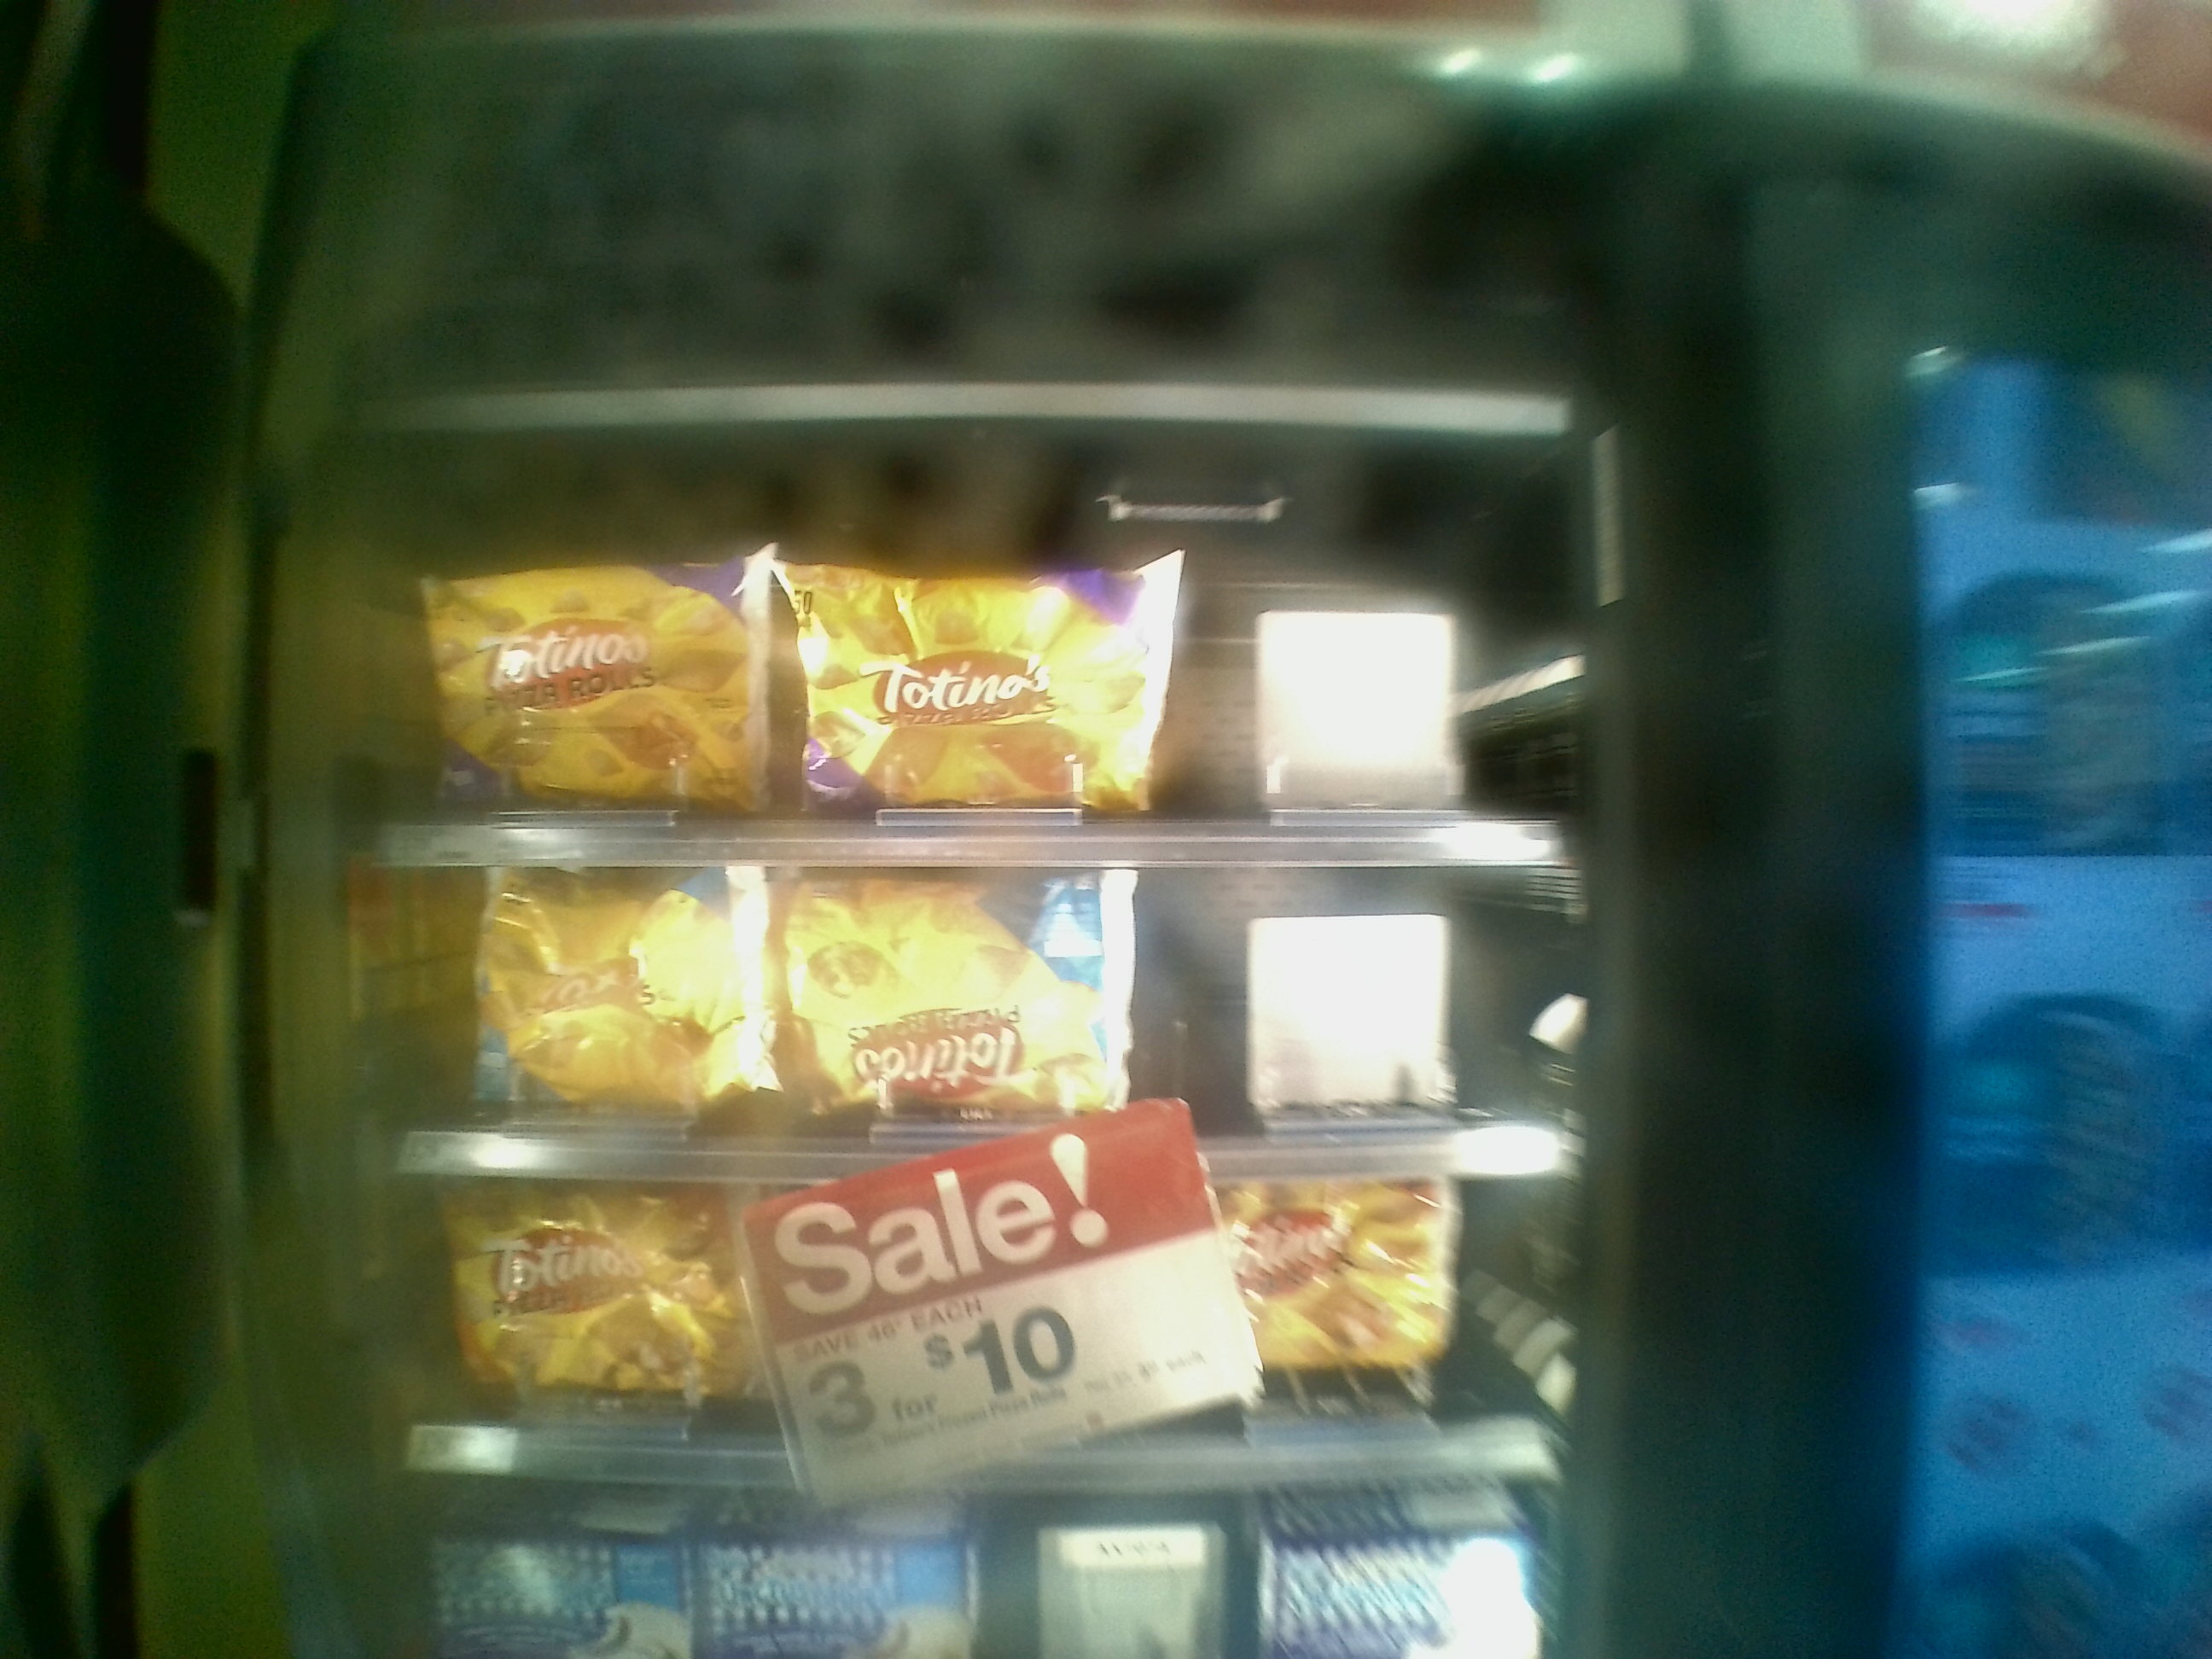shelf: (374, 453, 1575, 871), (364, 1182, 1571, 1492), (355, 871, 1578, 1175)
